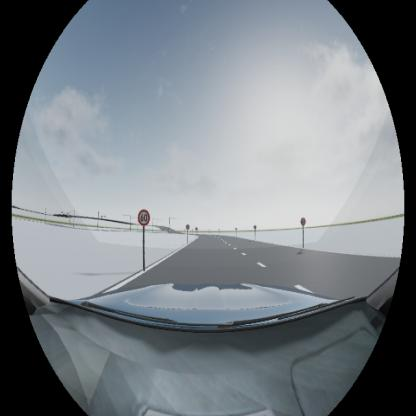Speed Limit 60: (138, 209, 150, 226)
